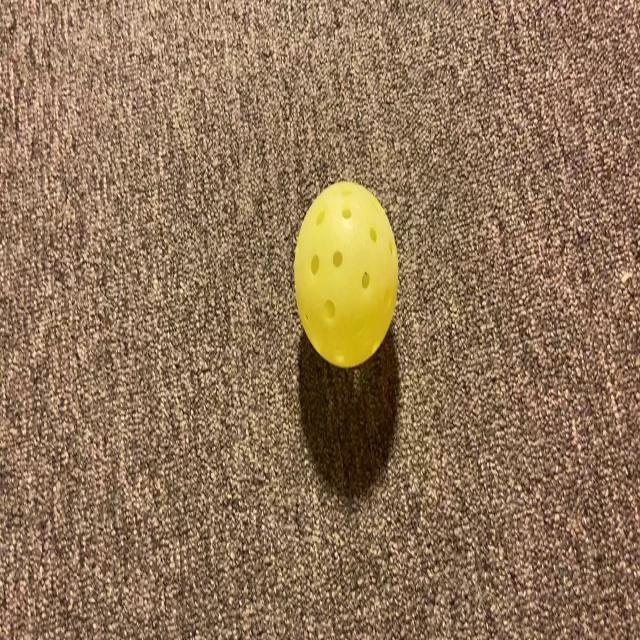ball: (275, 171, 412, 373)
